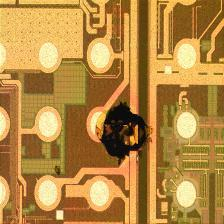PARTICLE: (91, 100, 159, 168)
